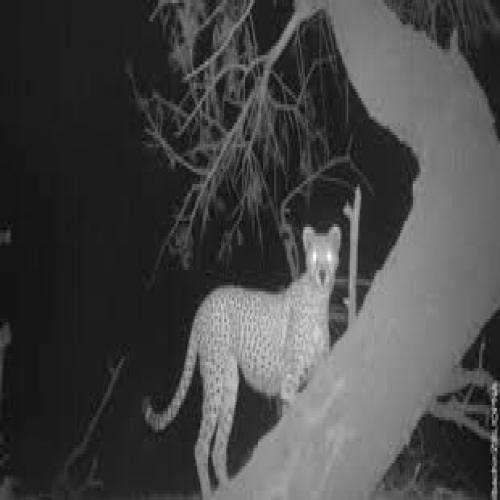cheetah-endangered: (144, 224, 340, 486)
